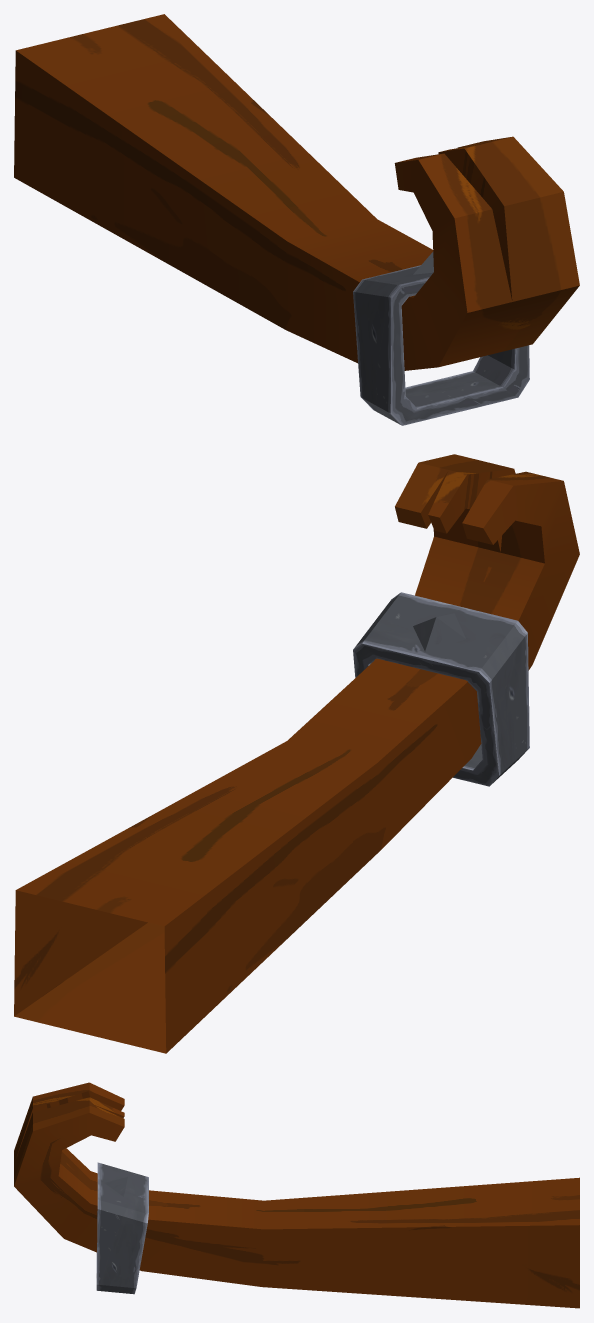
Rendered from SM_BLD_beam_small_v01_02.fbx.
3 views of the same model, one above another, from view 1: azimuth 30°, elevation 25°; view 2: azimuth 150°, elevation 25°; view 3: azimuth 270°, elevation 25° (orthographic). The views are drawn at different scales.
Parts seen in each view (by area): view 1: SM_BLD_beam_small_v01_02; view 2: SM_BLD_beam_small_v01_02; view 3: SM_BLD_beam_small_v01_02.
Part boxes in pixels (x1,y1,x2,y2): SM_BLD_beam_small_v01_02: [14, 14, 579, 425]; SM_BLD_beam_small_v01_02: [14, 454, 579, 1053]; SM_BLD_beam_small_v01_02: [14, 1082, 579, 1308].
Bounding box in the file's own units: 58.24 × 105 × 287.
